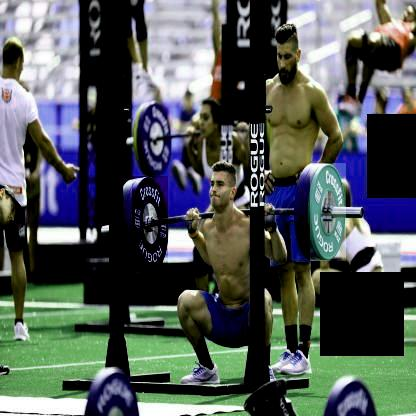barbell: (310, 164, 347, 262), (132, 177, 169, 271)
